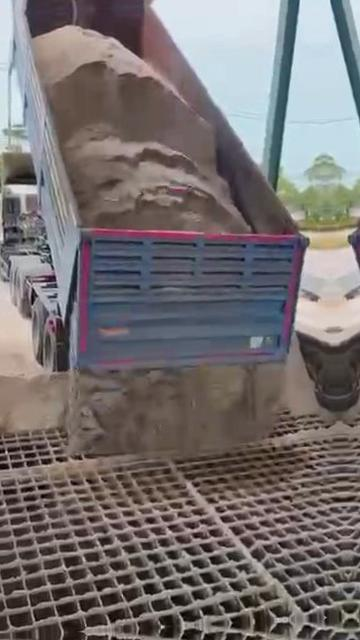sand: (34, 26, 249, 232), (172, 465, 302, 618), (67, 365, 281, 454), (17, 425, 340, 476), (0, 374, 66, 437), (282, 335, 321, 415)
